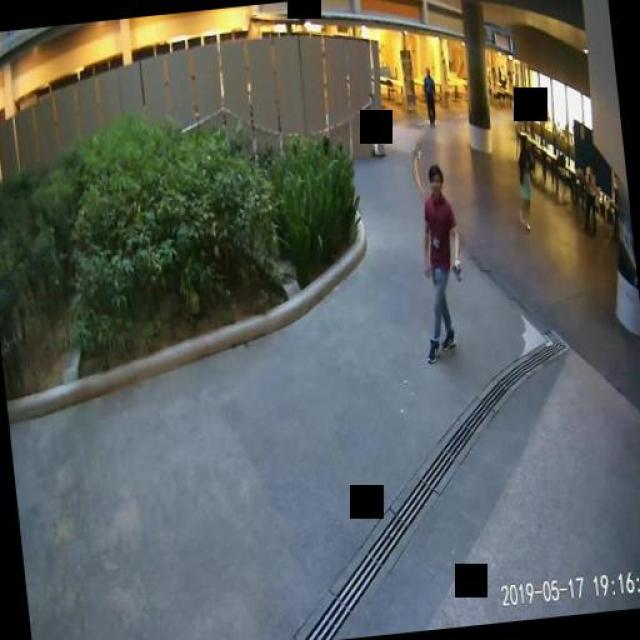gun: (450, 260, 462, 281)
